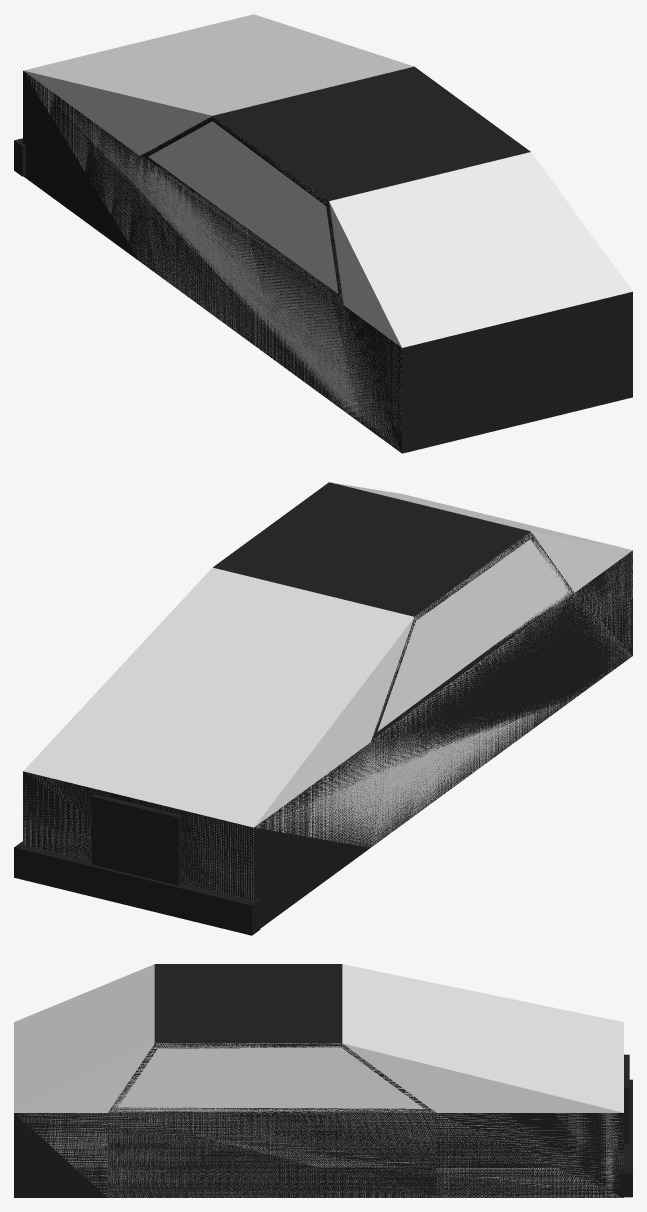
Rendered from towncar2.glb.
3 views of the same model, one above another, from view 1: azimuth 30°, elevation 25°; view 2: azimuth 150°, elevation 25°; view 3: azimuth 270°, elevation 25° (orthographic). The views are drawn at different scales.
Visible parts, largest first — view 1: COL_hull, vehicles/towncar2, window.00, window.01; view 2: COL_hull, vehicles/towncar2, window.00, window.01; view 3: COL_hull, vehicles/towncar2, window.03, window.04.
Part boxes in pixels (x1=…): COL_hull: x1=23, y1=14, x2=632, y2=452; vehicles/towncar2: x1=14, y1=66, x2=632, y2=453; window.00: x1=144, y1=117, x2=268, y2=239; window.01: x1=255, y1=162, x2=342, y2=302; COL_hull: x1=23, y1=482, x2=632, y2=900; vehicles/towncar2: x1=14, y1=482, x2=632, y2=935; window.00: x1=374, y1=595, x2=484, y2=732; window.01: x1=476, y1=532, x2=573, y2=657; COL_hull: x1=14, y1=964, x2=623, y2=1197; vehicles/towncar2: x1=14, y1=964, x2=632, y2=1197; window.03: x1=249, y1=1043, x2=432, y2=1112; window.04: x1=108, y1=1043, x2=251, y2=1112.
Size of the model in its own units: 2.06 by 1.53 by 5.77.
Materials: 2 (2 with a texture image).
